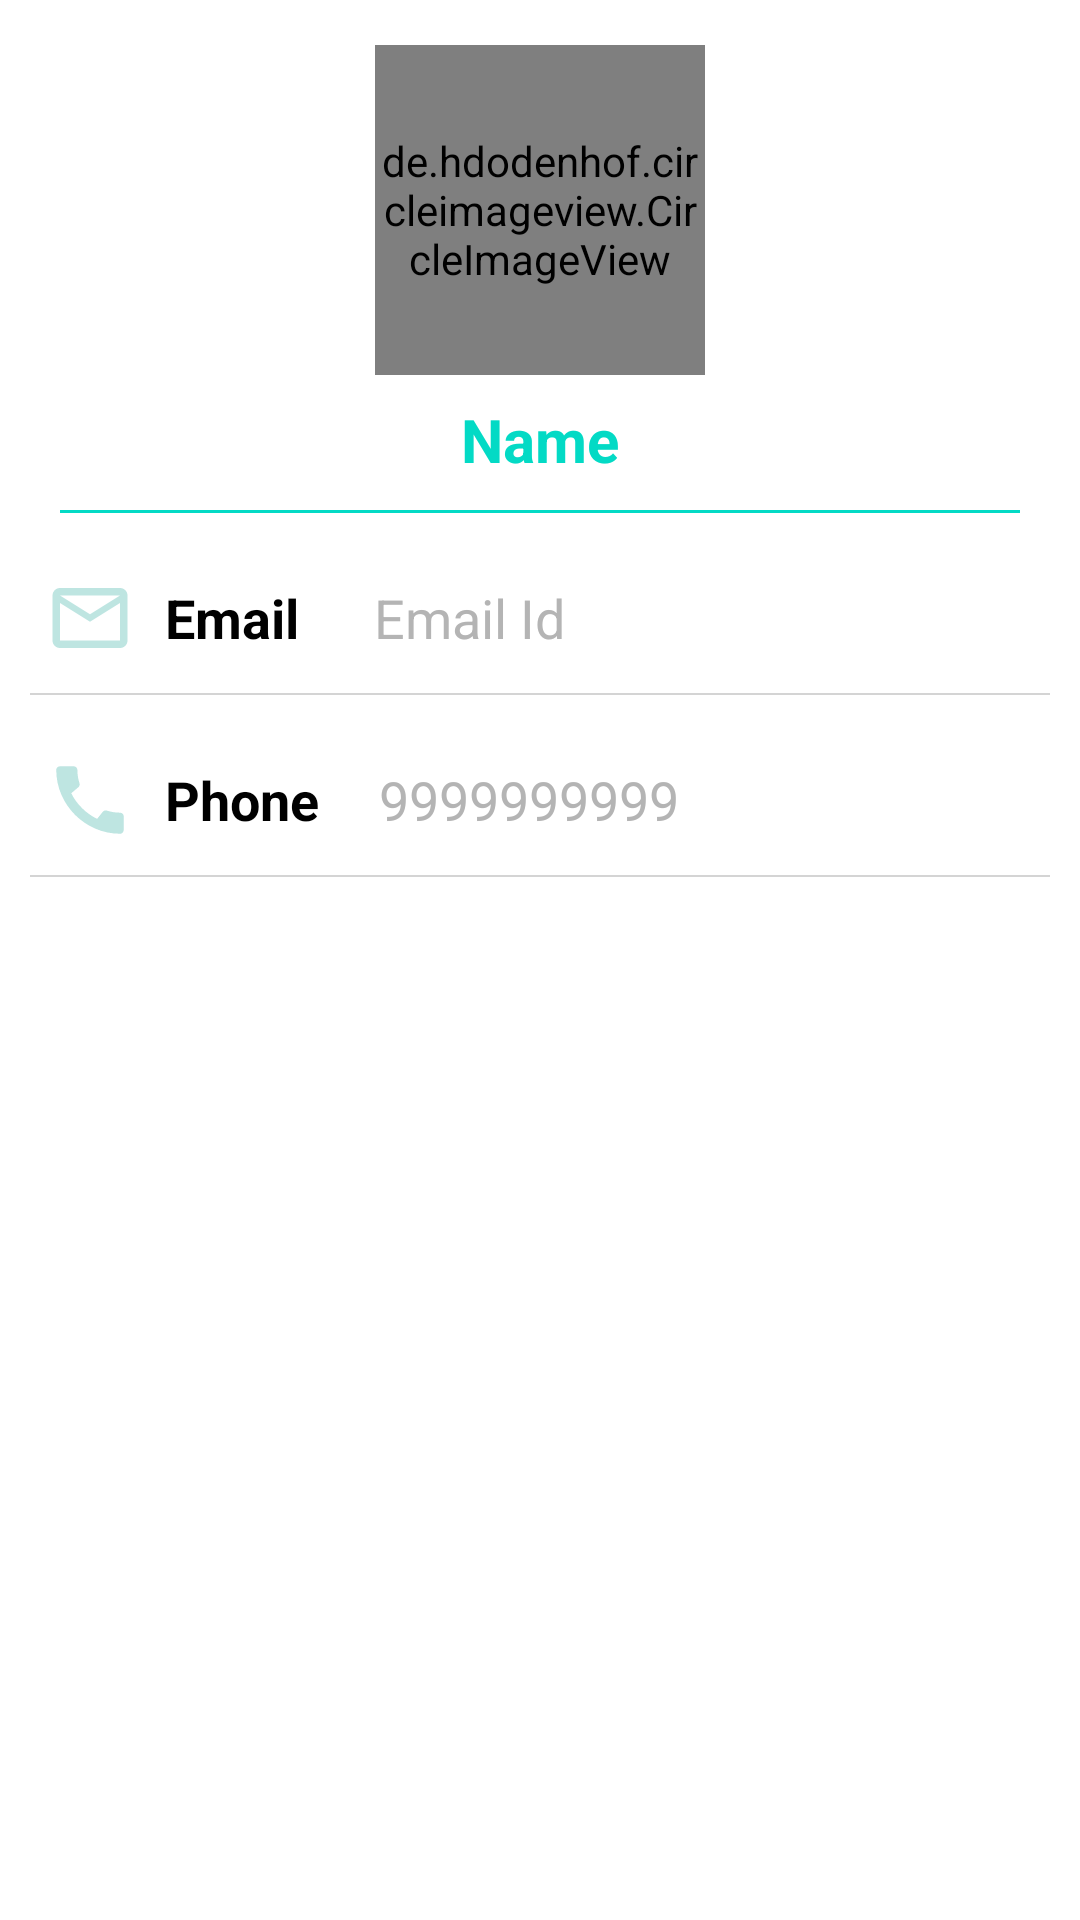

Icon bounding boxes for this 1080×1920 phone screenshot, format (left=x1, top=y1, right=x2, bottom=y2):
contact: (left=56, top=766, right=124, bottom=834)
